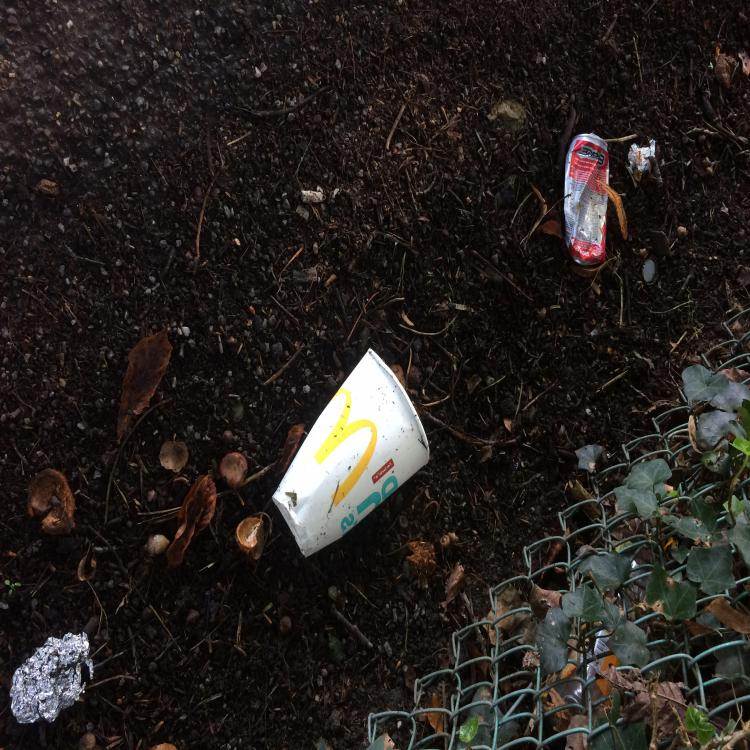Aluminium foil: (9, 632, 94, 724), (628, 139, 655, 174)
Clear plastic bottle: (553, 560, 650, 714)
Drink can: (564, 133, 609, 265)
Metal bottle cap: (642, 257, 658, 285)
Paper cup: (272, 348, 429, 557)
